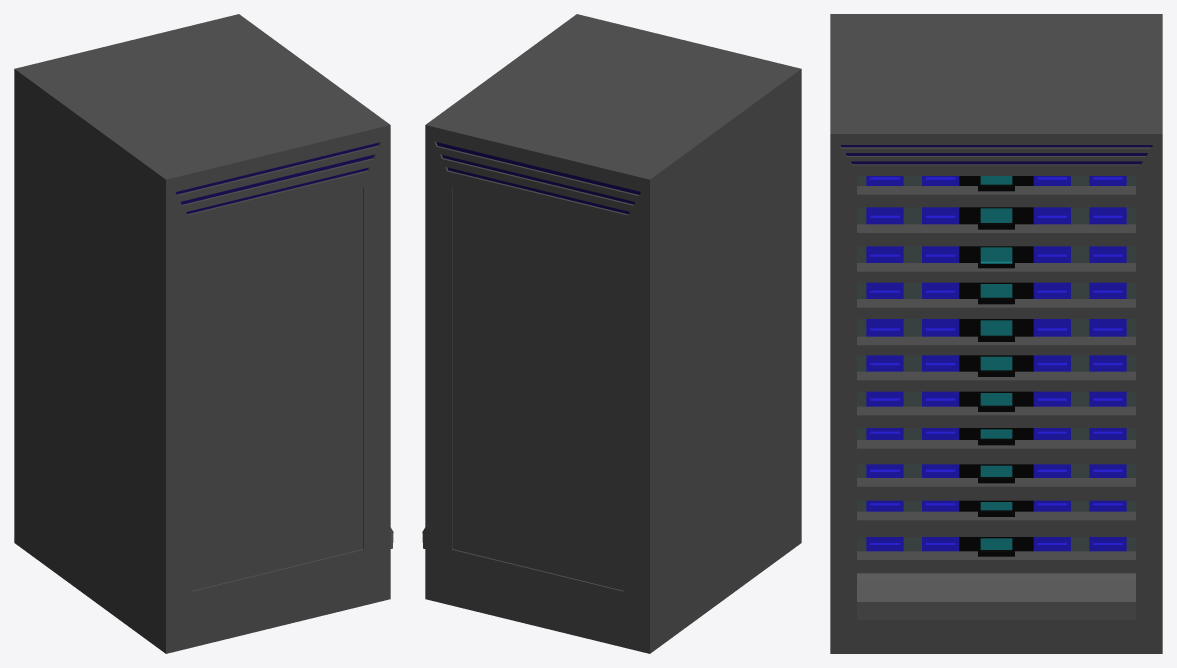
File: Supercomputador.fbx
The picture shows the model from 3 angles, left to right: view 1: azimuth 30°, elevation 25°; view 2: azimuth 150°, elevation 25°; view 3: azimuth 270°, elevation 25°; orthographic projection. The views are drawn at different scales.
Parts seen in each view (by area): view 1: Cube; view 2: Cube; view 3: Cube.
Part boxes in pixels (x1,y1,x2,y2): Cube: (14, 14, 393, 653); Cube: (422, 14, 801, 653); Cube: (830, 14, 1162, 653).
Bounding box in the file's own units: 728 × 1376 × 797.
